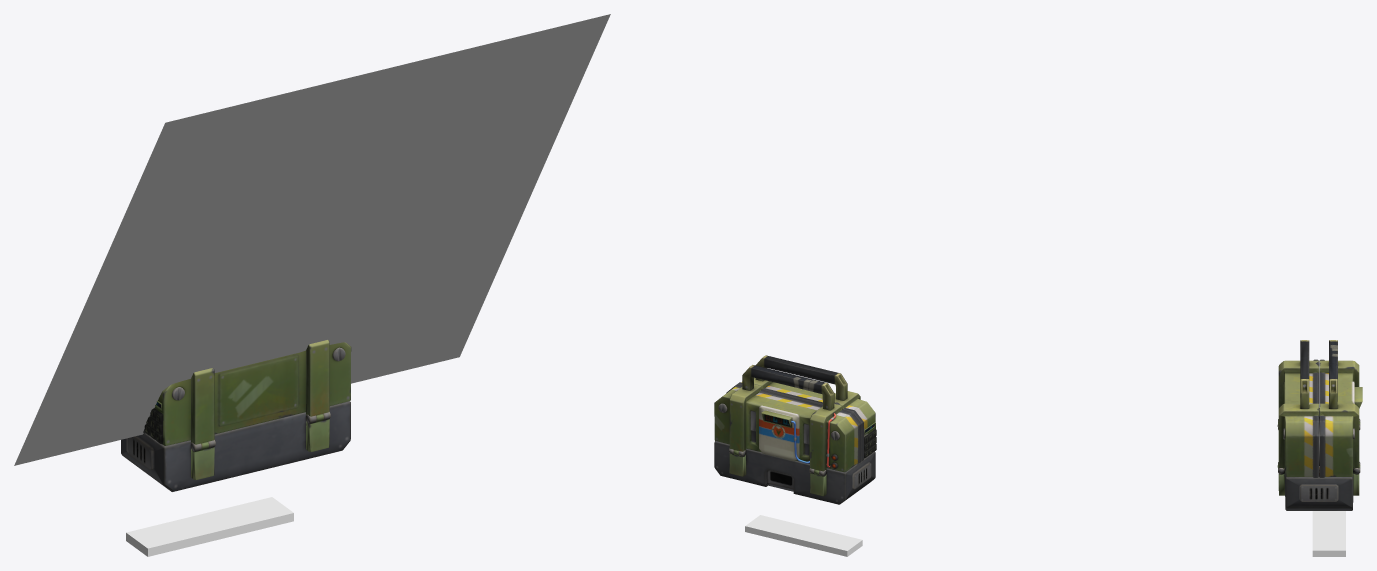
Rendered from WeaponSpawnPoint.glb.
3 views of the same model, side by side, from view 1: azimuth 30°, elevation 25°; view 2: azimuth 150°, elevation 25°; view 3: azimuth 270°, elevation 25° (orthographic). The views are drawn at different scales.
Parts seen in each view (by area): view 1: LightQuad, WeaponSpawnerOnePiece, LidBackModel, MainBox, Cube (1); view 2: LidFrontModel, WeaponSpawnerOnePiece, MainBox, LidBackModel, Cube (1); view 3: WeaponSpawnerOnePiece, LidBackModel, Cube (1), LidFrontModel, MainBox.
Boxes of the visible parts, left/top/right/bottom form: LightQuad: left=14, top=14, right=610, bottom=465; WeaponSpawnerOnePiece: left=123, top=340, right=351, bottom=488; LidBackModel: left=143, top=340, right=350, bottom=449; MainBox: left=121, top=401, right=350, bottom=491; Cube (1): left=126, top=497, right=293, bottom=556; LidFrontModel: left=714, top=365, right=860, bottom=474; WeaponSpawnerOnePiece: left=714, top=365, right=876, bottom=503; MainBox: left=714, top=441, right=875, bottom=504; LidBackModel: left=737, top=355, right=876, bottom=461; Cube (1): left=745, top=515, right=862, bottom=556; WeaponSpawnerOnePiece: left=1277, top=340, right=1362, bottom=510; LidBackModel: left=1277, top=340, right=1318, bottom=477; Cube (1): left=1312, top=511, right=1345, bottom=556; LidFrontModel: left=1319, top=340, right=1360, bottom=477; MainBox: left=1278, top=409, right=1360, bottom=510.
Bounding box in the file's own units: 1.03 × 1.27 × 0.7232.
Materials: 5 (3 with a texture image).
